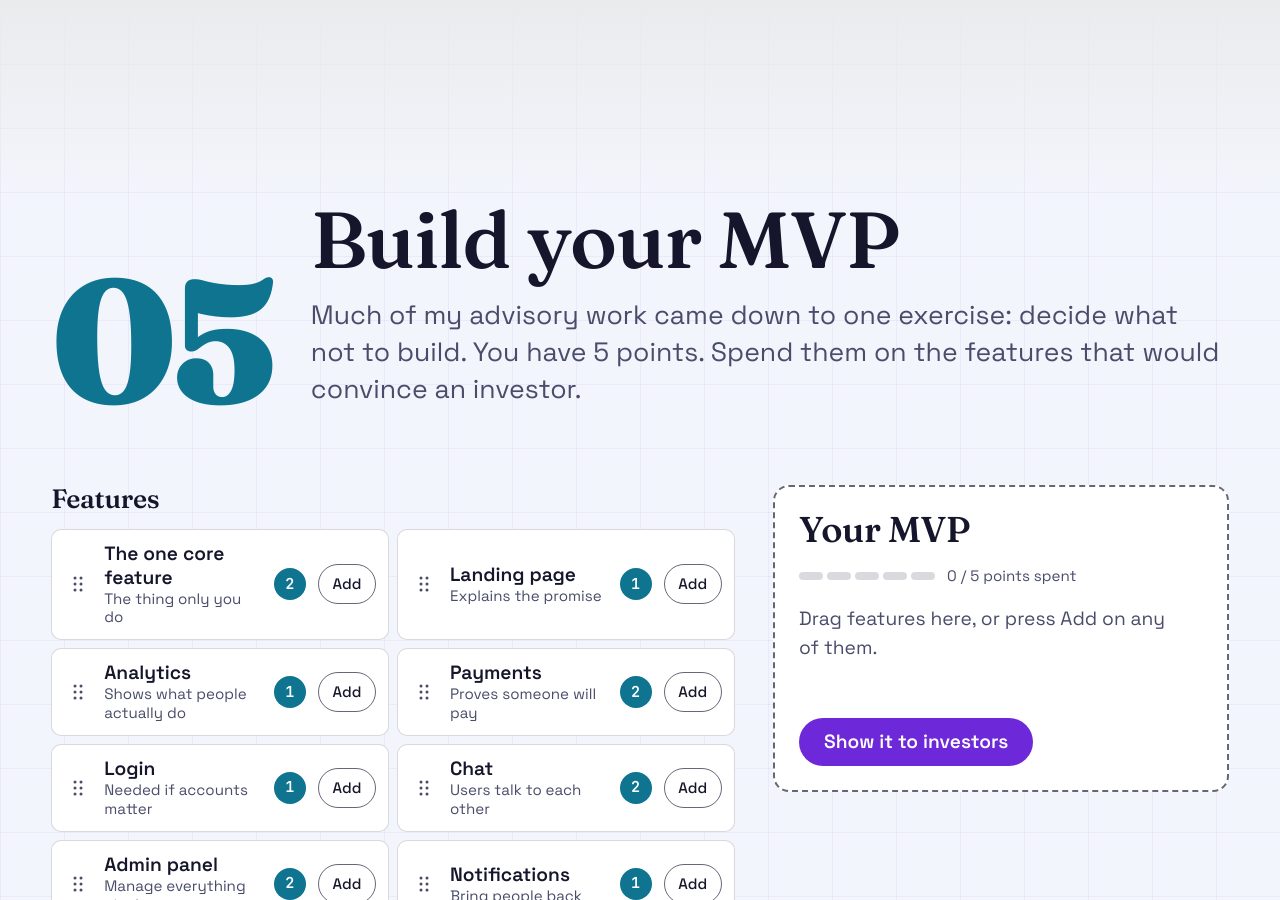
Test: MvpBuilder › builds with the click alternative and shows the fundable result
Click the button "Add" below "The one core feature" at (347, 584), box [318,564,376,604]
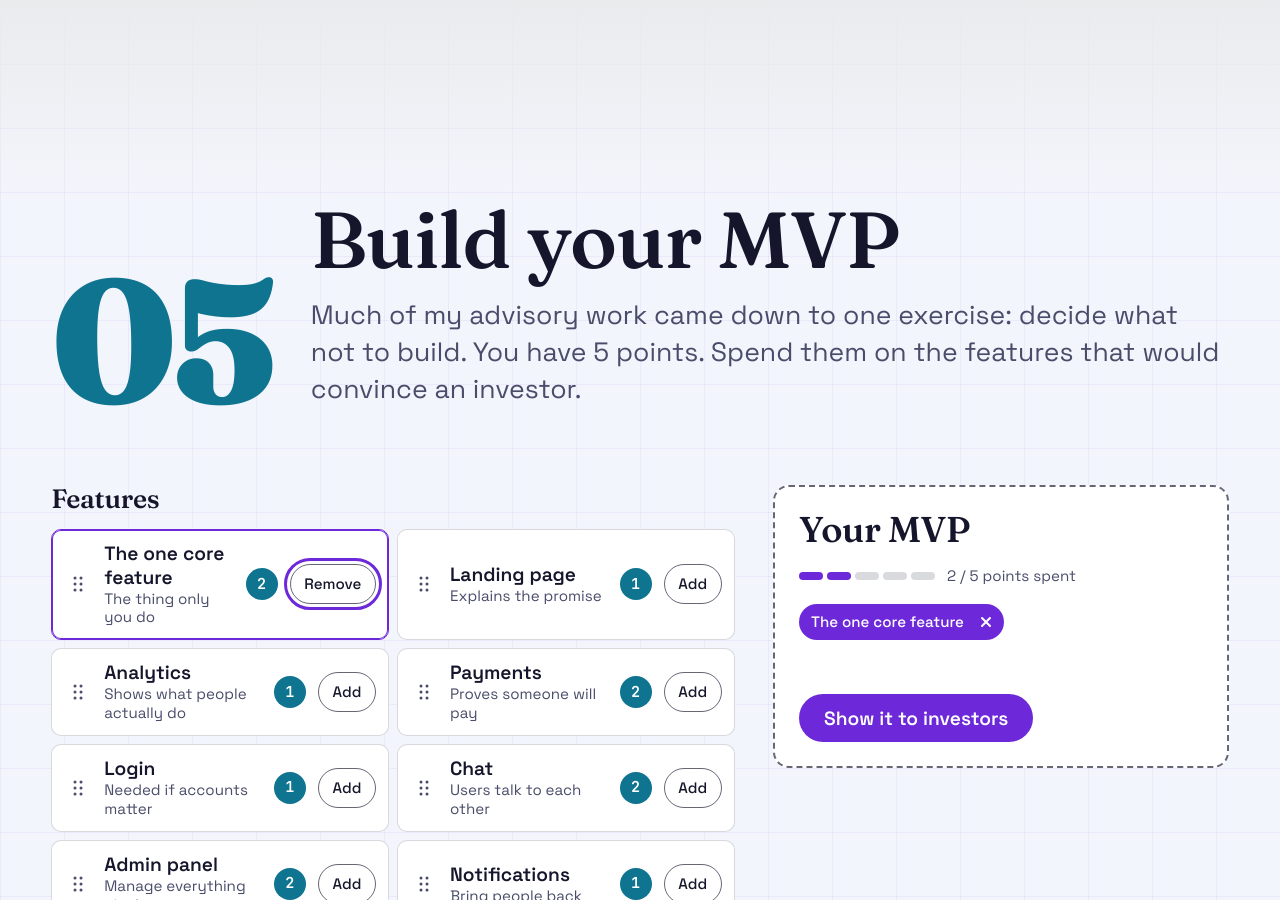
Click the button "Add" in the row of "Landing page" at (693, 584), box [664,564,722,604]
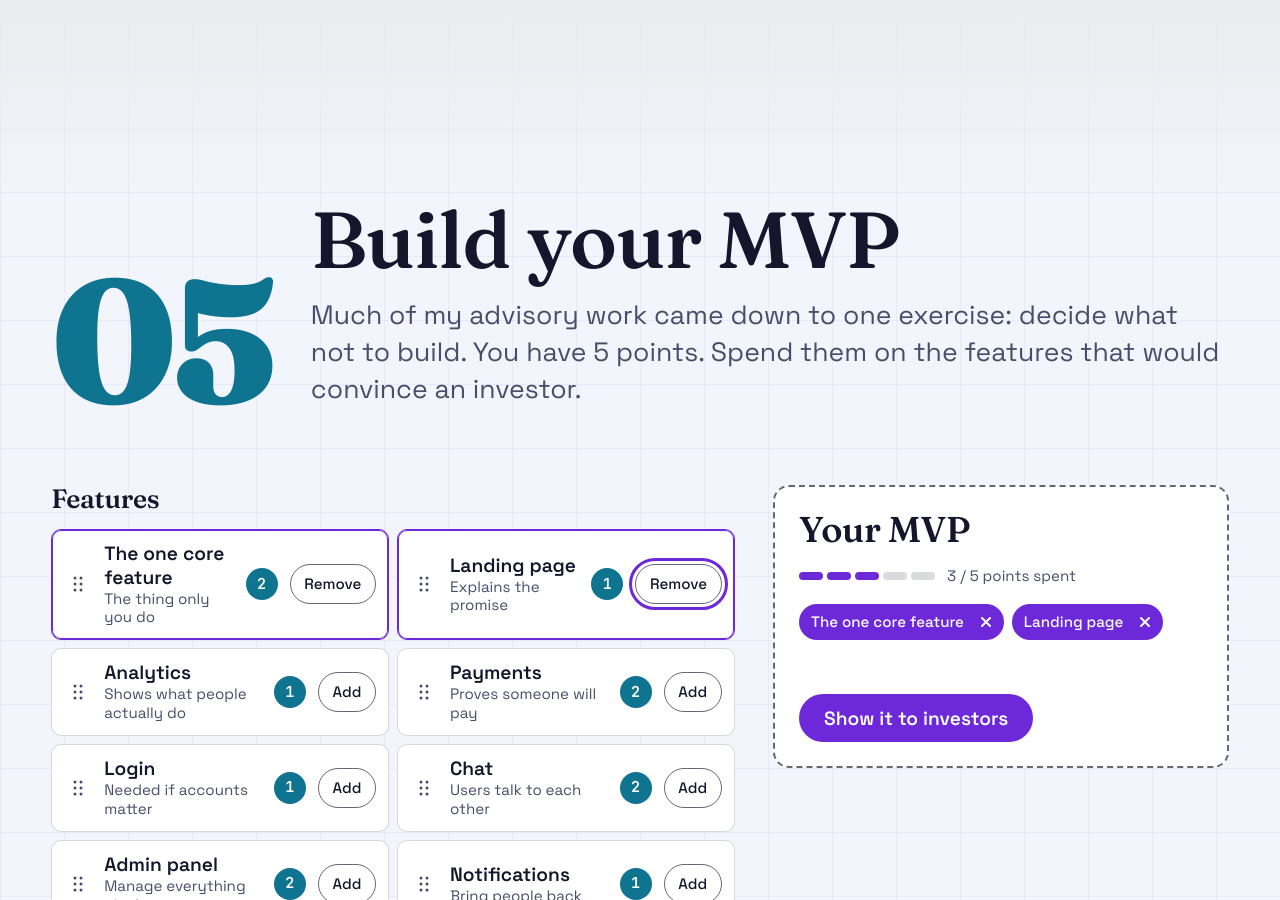
Click the button "Add" in the row of "Analytics" at (347, 692), box [318,672,376,712]
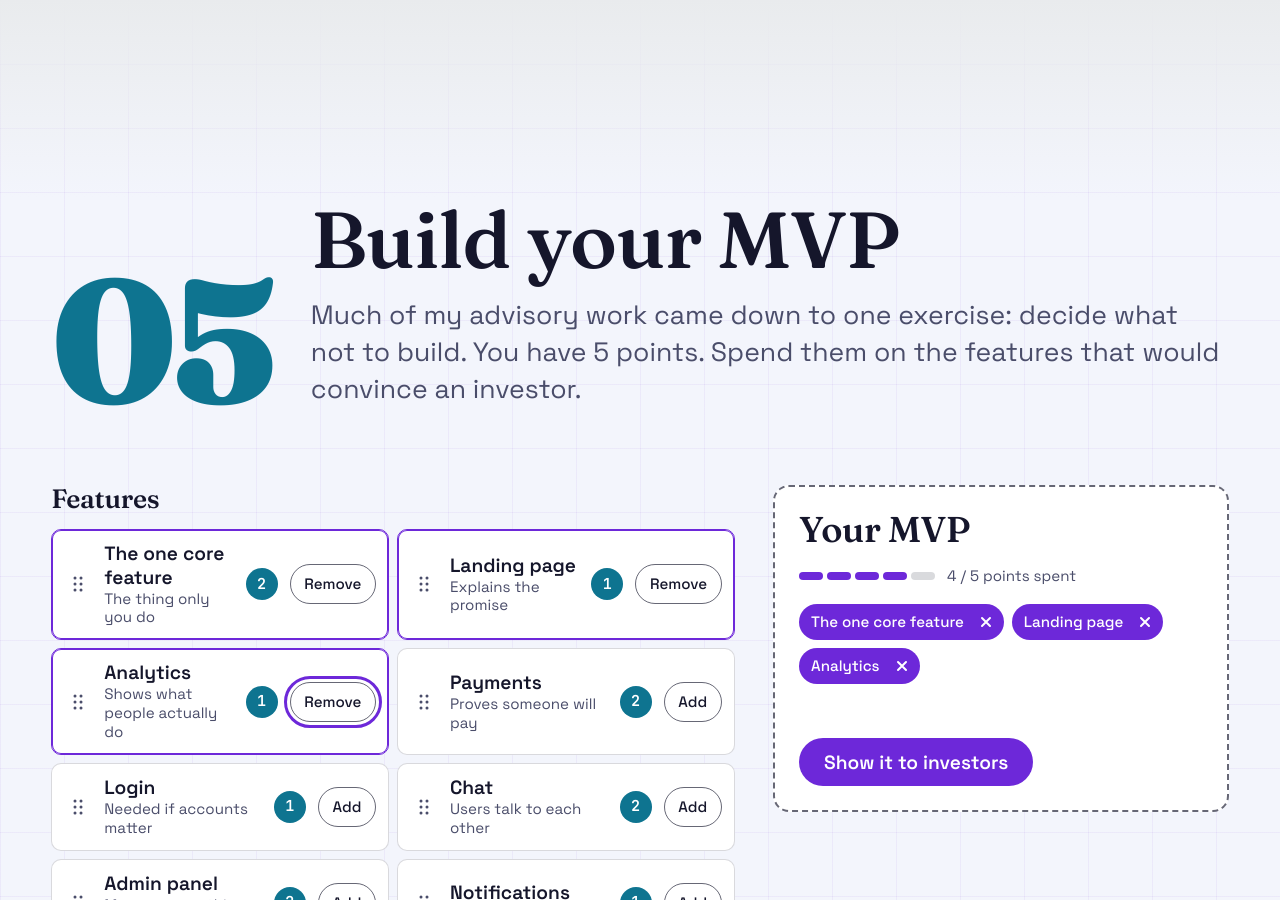
Click the button "Show it to investors" at (916, 762), box [799,738,1033,786]
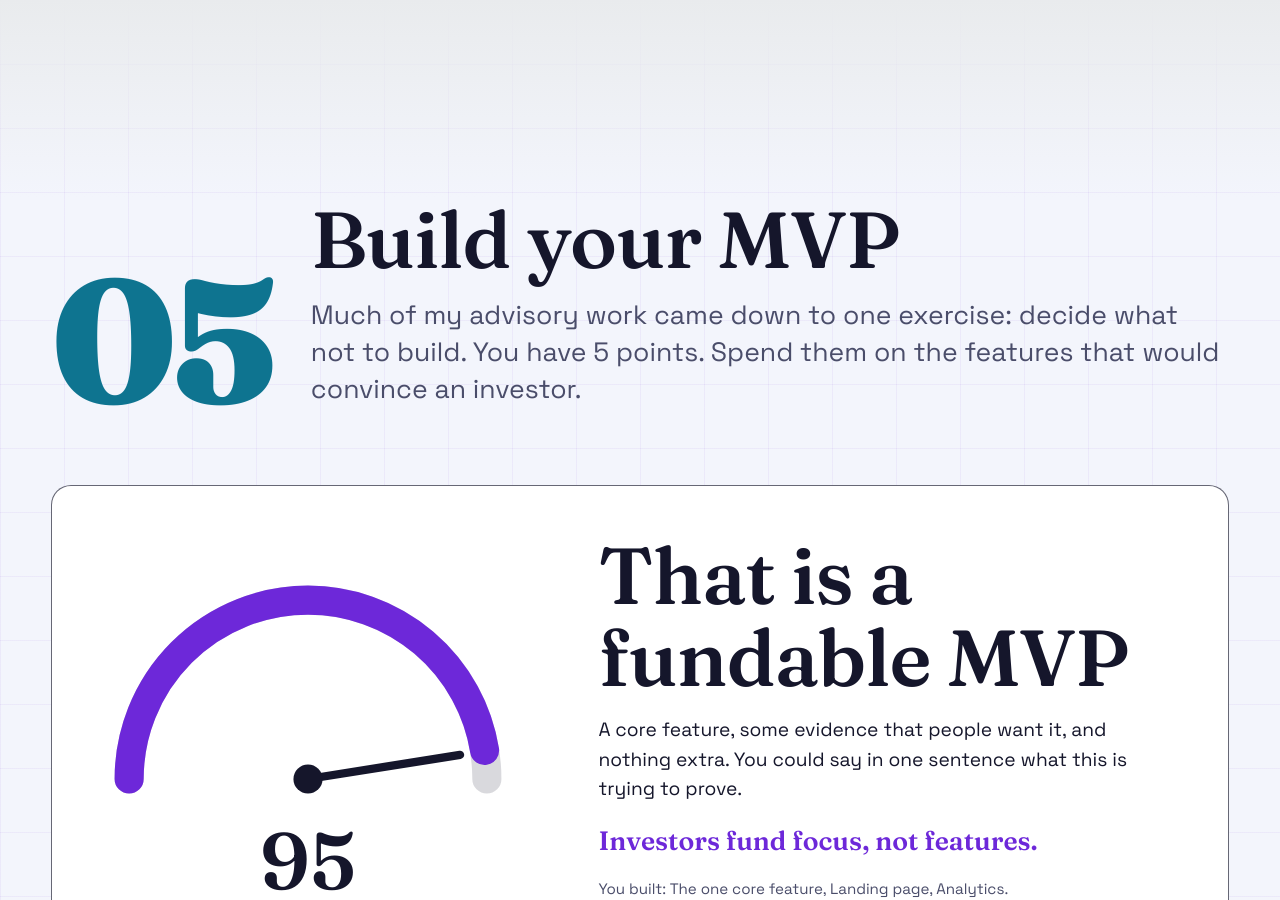
Expected: the text "Investors fund focus, not features." is shown, [598,820,1038,861]
